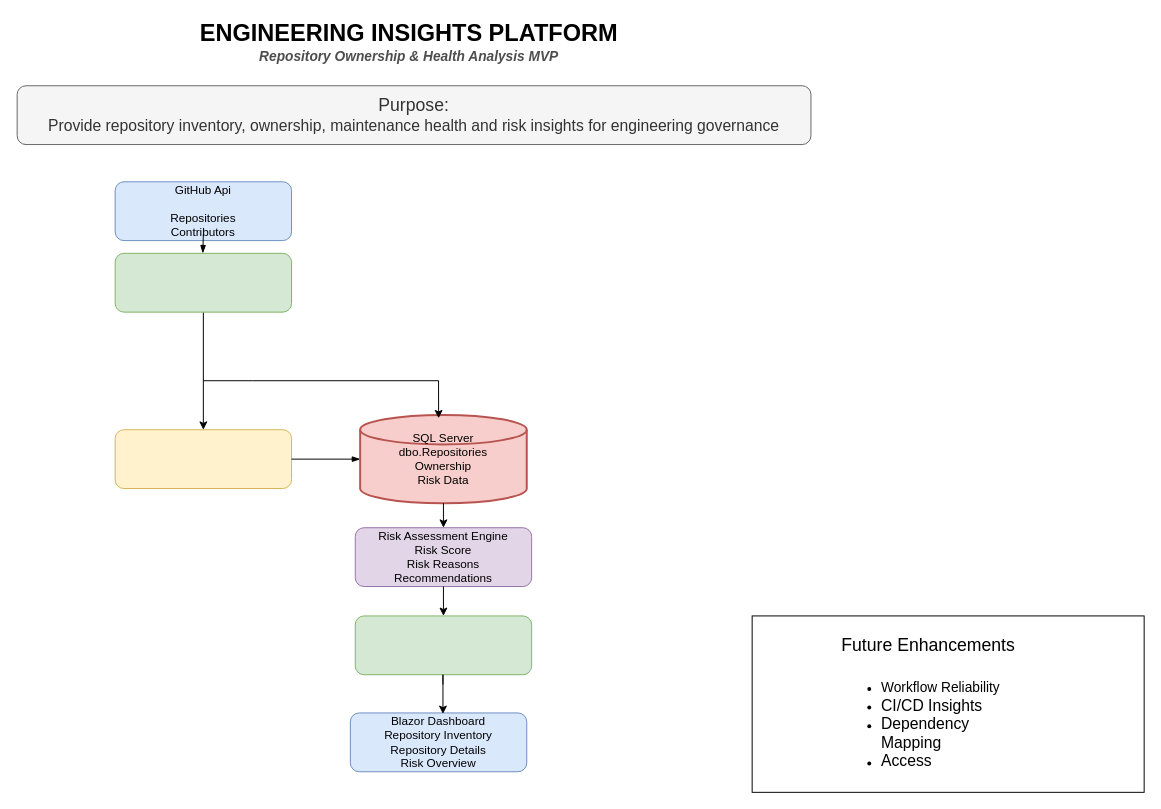
The diagram is 1161 pixels wide and 809 high, and some of its shapes have lost their labels. The shapes that lost their labels are listed below. From the top down, each one's centre as x and y in pixels, then its label:
At point (203, 282): "GitHub Service Repository Import Service".
At point (203, 459): "Repository Ownership Json Mapping(Mock Data)".
At point (443, 645): "ASP .Net Core API Dashboard Repositories Insights".
